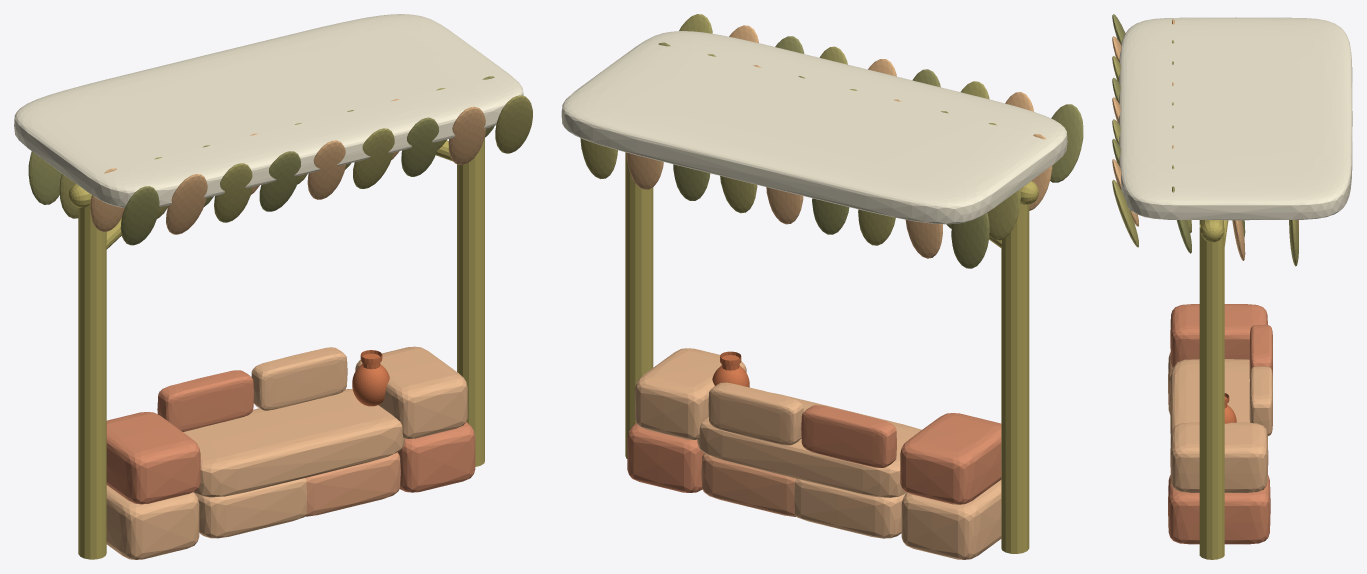
File: shade_bench.glb
3 renders of one model, left to right at view 1: azimuth 30°, elevation 25°; view 2: azimuth 150°, elevation 25°; view 3: azimuth 270°, elevation 25°, orthographic. The views are drawn at different scales.
Visible parts, largest first — view 1: Canopy, Seat, Pole_L, Pole_R, ArmTop_L, ArmTop_R, ArmLow_L, Back_R, Seat_Base1, Back_L, ArmLow_R, Seat_Base2 (+12 smaller); view 2: Canopy, Pole_L, ArmTop_L, Seat, Pole_R, ArmTop_R, ArmLow_L, Back_L, Back_R, Seat_Base1, ArmLow_R, Seat_Base2 (+11 smaller); view 3: Canopy, Pole_R, ArmTop_R, ArmLow_R, ArmTop_L, Seat, Back_R, Back_L, Leaf_0_8, Beam_F, Leaf_3_8, Leaf_2_8 (+1 smaller).
Part boxes in pixels (x1,y1,x2,y2): Canopy: [14, 14, 523, 207]; Seat: [183, 389, 404, 497]; Pole_L: [78, 204, 106, 559]; Pole_R: [457, 138, 484, 466]; ArmTop_L: [106, 412, 200, 504]; ArmTop_R: [355, 346, 467, 438]; ArmLow_L: [106, 485, 199, 559]; Back_R: [251, 347, 347, 410]; Seat_Base1: [195, 478, 306, 538]; Back_L: [157, 370, 254, 431]; ArmLow_R: [398, 422, 475, 492]; Seat_Base2: [305, 452, 400, 516]; Canopy: [561, 31, 1067, 224]; Pole_L: [1001, 203, 1029, 553]; ArmTop_L: [900, 413, 1001, 504]; Seat: [697, 392, 921, 497]; Pole_R: [625, 152, 653, 458]; ArmTop_R: [635, 348, 746, 439]; ArmLow_L: [901, 480, 1001, 559]; Back_L: [801, 405, 896, 467]; Back_R: [708, 382, 803, 445]; Seat_Base1: [794, 478, 906, 538]; ArmLow_R: [627, 423, 704, 492]; Seat_Base2: [701, 453, 796, 516]; Canopy: [1118, 17, 1352, 220]; Pole_R: [1199, 224, 1224, 559]; ArmTop_R: [1170, 422, 1268, 492]; ArmLow_R: [1168, 475, 1270, 544]; ArmTop_L: [1170, 304, 1267, 368]; Seat: [1170, 359, 1267, 438]; Back_R: [1249, 366, 1272, 435]; Back_L: [1249, 325, 1272, 378]; Leaf_0_8: [1112, 179, 1138, 247]; Beam_F: [1200, 220, 1223, 242]; Leaf_3_8: [1289, 220, 1298, 266]; Leaf_2_8: [1232, 220, 1245, 260].
Bounding box in the file's own units: 2 × 1.84 × 1.08.
